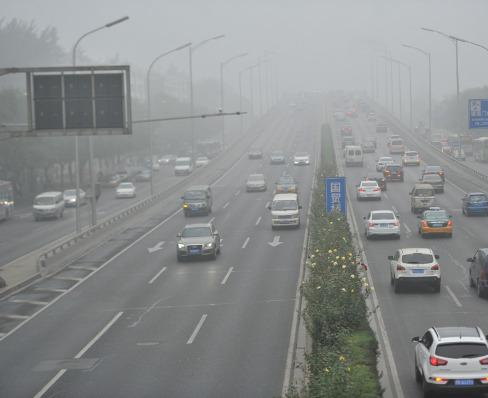bus: (447, 133, 475, 156), (197, 140, 221, 161), (472, 135, 488, 166)
car: (409, 325, 487, 398), (387, 247, 442, 295), (176, 223, 222, 262), (267, 193, 303, 230), (416, 206, 453, 240), (362, 209, 402, 240), (180, 184, 214, 218), (467, 247, 488, 299), (32, 190, 66, 221), (409, 183, 437, 215), (460, 192, 488, 217), (355, 179, 384, 201), (418, 173, 445, 194), (273, 174, 298, 196), (363, 172, 388, 192), (62, 188, 88, 207), (344, 145, 364, 168), (421, 165, 446, 182), (382, 164, 404, 183), (246, 173, 267, 192), (399, 150, 421, 167), (115, 182, 137, 199), (375, 156, 396, 173), (174, 157, 193, 175), (101, 173, 122, 189), (388, 138, 406, 154), (112, 169, 131, 184), (340, 136, 357, 152), (448, 146, 466, 161), (292, 151, 311, 165), (135, 168, 153, 182), (270, 150, 285, 164), (248, 145, 263, 159), (195, 155, 209, 169), (362, 141, 376, 153), (376, 120, 388, 133), (157, 154, 170, 165), (367, 110, 378, 122)
